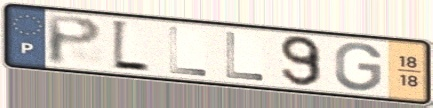9: (277, 34, 324, 89)
G: (332, 40, 385, 93)
L: (109, 17, 152, 75), (166, 24, 210, 78), (223, 30, 267, 83)
P: (44, 13, 105, 67)
